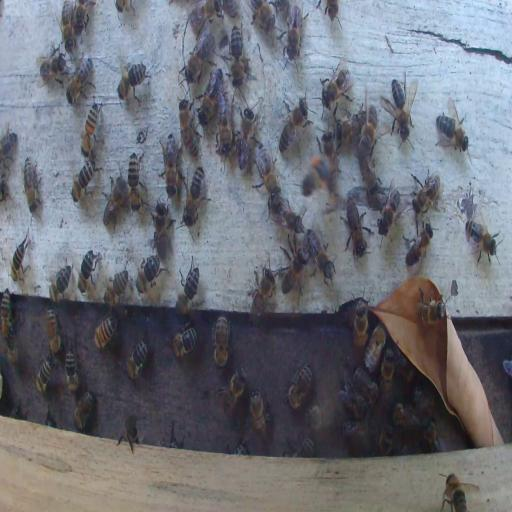nonpollenbee: (380, 73, 420, 136), (278, 92, 310, 154), (435, 97, 469, 153), (466, 215, 502, 265), (182, 166, 210, 227), (340, 200, 368, 258), (320, 62, 353, 110), (283, 5, 307, 71), (102, 173, 129, 231), (116, 60, 150, 106), (416, 280, 446, 329), (176, 257, 200, 318), (218, 367, 248, 415), (65, 57, 95, 104), (268, 194, 304, 233), (279, 248, 308, 296), (410, 171, 441, 215), (70, 158, 100, 203), (249, 267, 276, 317), (183, 36, 213, 80), (358, 142, 382, 197), (284, 362, 312, 409), (37, 42, 67, 84), (80, 101, 102, 157), (22, 157, 44, 213), (179, 102, 201, 157), (238, 104, 256, 171), (405, 222, 432, 266), (200, 70, 222, 122), (152, 196, 173, 250), (378, 183, 400, 233), (364, 324, 386, 372), (255, 151, 279, 195), (104, 270, 132, 307), (351, 368, 379, 405), (334, 109, 367, 140), (78, 250, 100, 296), (212, 315, 230, 371), (312, 243, 336, 285), (248, 387, 268, 437), (162, 136, 178, 198), (33, 352, 55, 397), (49, 261, 72, 304), (126, 338, 149, 381), (137, 252, 166, 286), (304, 401, 339, 429), (443, 474, 468, 512), (127, 151, 143, 210), (227, 25, 243, 84), (341, 382, 367, 418), (319, 131, 339, 177), (73, 390, 95, 431), (93, 315, 118, 350), (188, 2, 219, 30), (11, 236, 29, 284), (171, 326, 198, 358), (117, 416, 140, 453), (421, 417, 444, 453), (352, 300, 368, 350), (360, 106, 376, 154), (341, 418, 370, 444), (46, 309, 62, 356), (218, 100, 232, 153), (2, 288, 16, 340), (417, 280, 443, 308), (252, 3, 276, 33), (1, 123, 18, 165), (60, 3, 74, 51), (374, 426, 395, 456), (65, 348, 79, 393), (73, 2, 89, 35), (381, 349, 395, 386), (322, 2, 342, 26), (392, 402, 405, 429), (299, 438, 314, 457)
pollenbee: (300, 148, 332, 202)
